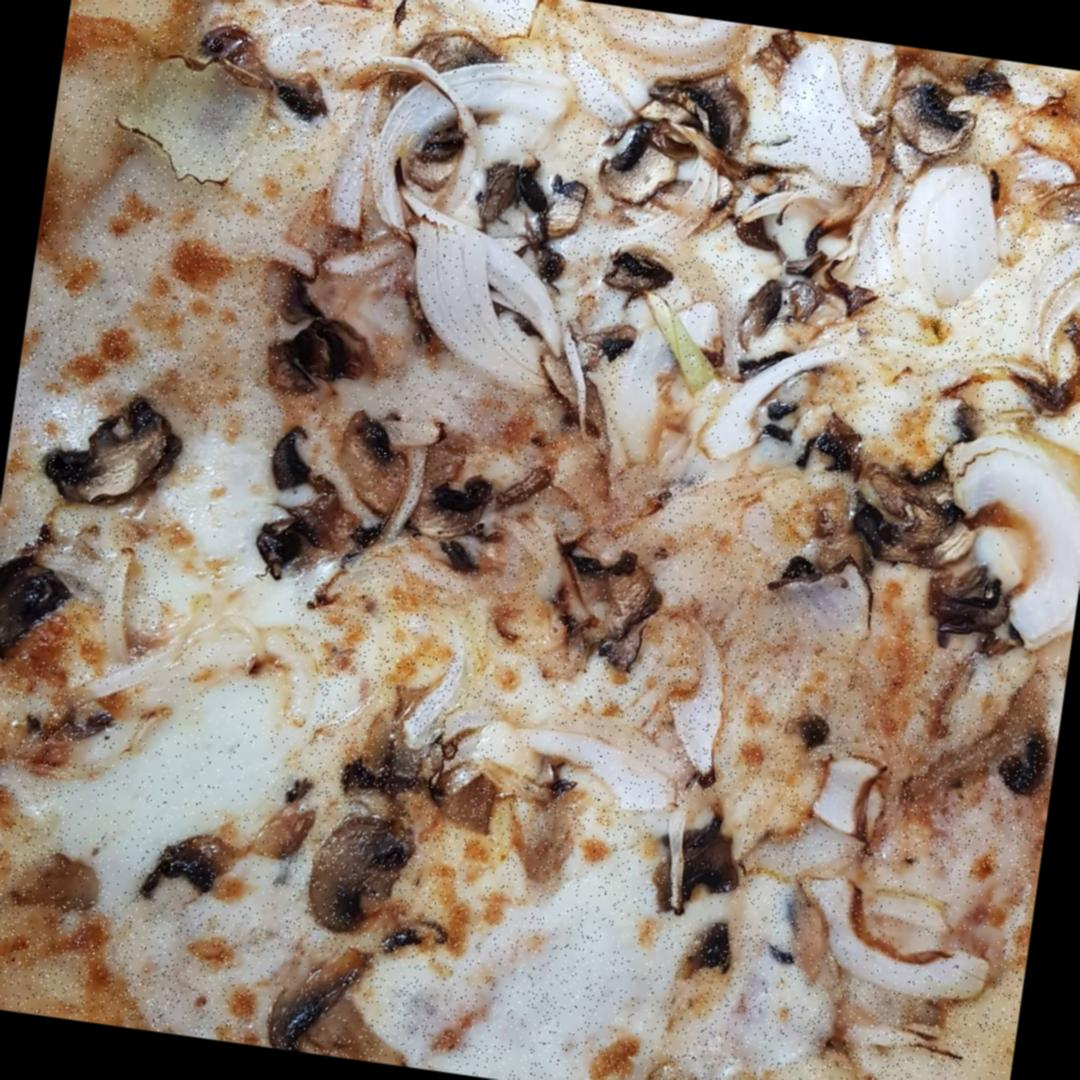Cheese: (58, 624, 324, 928), (425, 826, 691, 1080), (163, 429, 313, 657)
Mushroom: (820, 462, 1036, 653), (799, 856, 1010, 1002), (266, 428, 384, 584), (605, 76, 748, 201), (54, 390, 184, 526), (298, 808, 419, 946), (748, 190, 866, 329), (640, 791, 748, 924), (538, 543, 656, 664), (277, 276, 385, 404), (416, 454, 522, 576), (476, 166, 582, 276), (255, 947, 368, 1048), (884, 74, 988, 175), (130, 826, 238, 918), (527, 337, 618, 434), (0, 554, 69, 662), (812, 755, 890, 848), (604, 252, 672, 298)
Onion: (370, 52, 576, 253), (610, 308, 829, 490), (936, 421, 1080, 664), (387, 234, 582, 395), (464, 714, 700, 818), (115, 48, 272, 198), (758, 42, 896, 193), (895, 165, 1013, 306), (674, 631, 742, 785), (406, 624, 476, 763)
Pizza: (0, 0, 1080, 1080)
